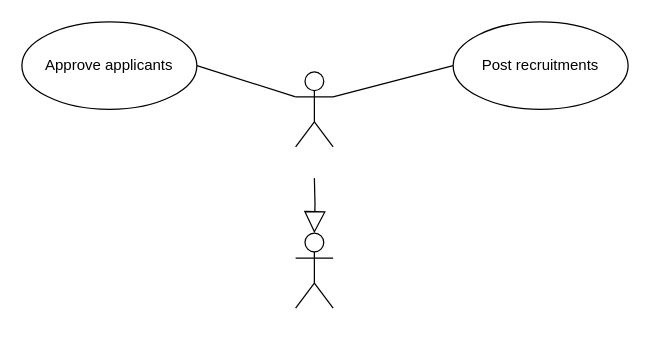
This 650x356 diagram has some shape labels left out. Here are the shapes that lost their labels. From the top down, the centre of each, then its label:
At (x=313, y=109): "Recruiter".
At (x=313, y=270): "User".
